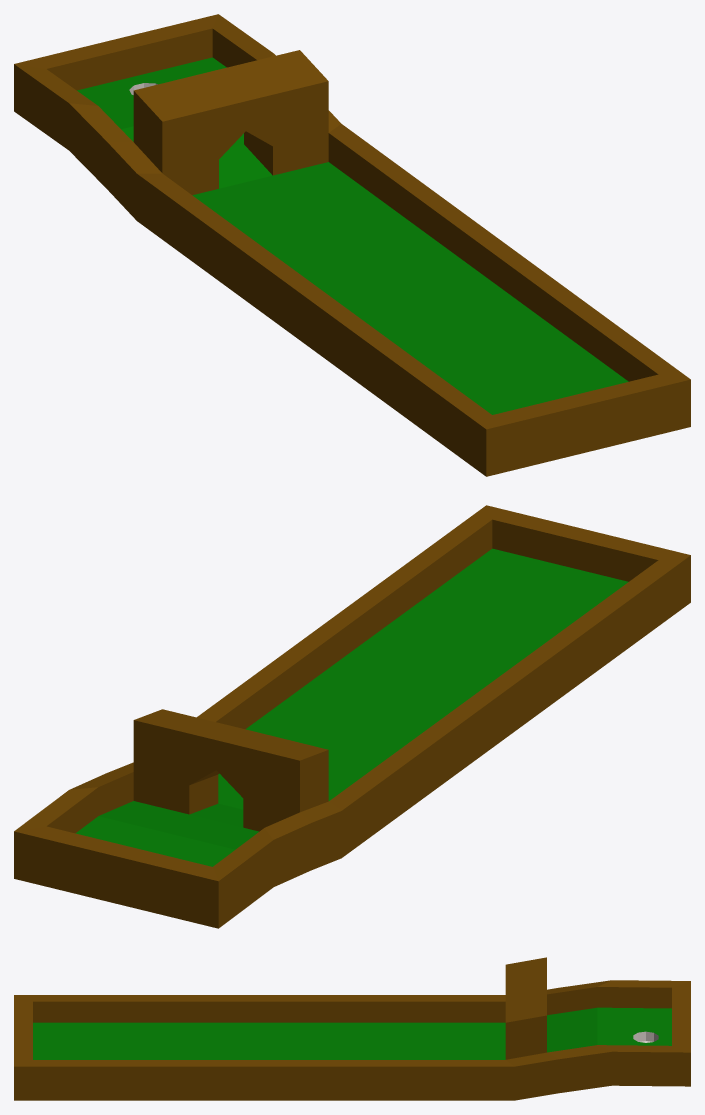
File: Level1.fbx
3 views of the same model, one above another, from view 1: azimuth 30°, elevation 25°; view 2: azimuth 150°, elevation 25°; view 3: azimuth 270°, elevation 25° (orthographic). The views are drawn at different scales.
Visible parts, largest first — view 1: pCube4; view 2: pCube4; view 3: pCube4.
Part boxes in pixels (x1=…): pCube4: x1=14, y1=14, x2=690, y2=476; pCube4: x1=14, y1=505, x2=690, y2=928; pCube4: x1=14, y1=957, x2=690, y2=1100.
Bounding box in the file's own units: 1.97 × 1.01 × 7.88.
